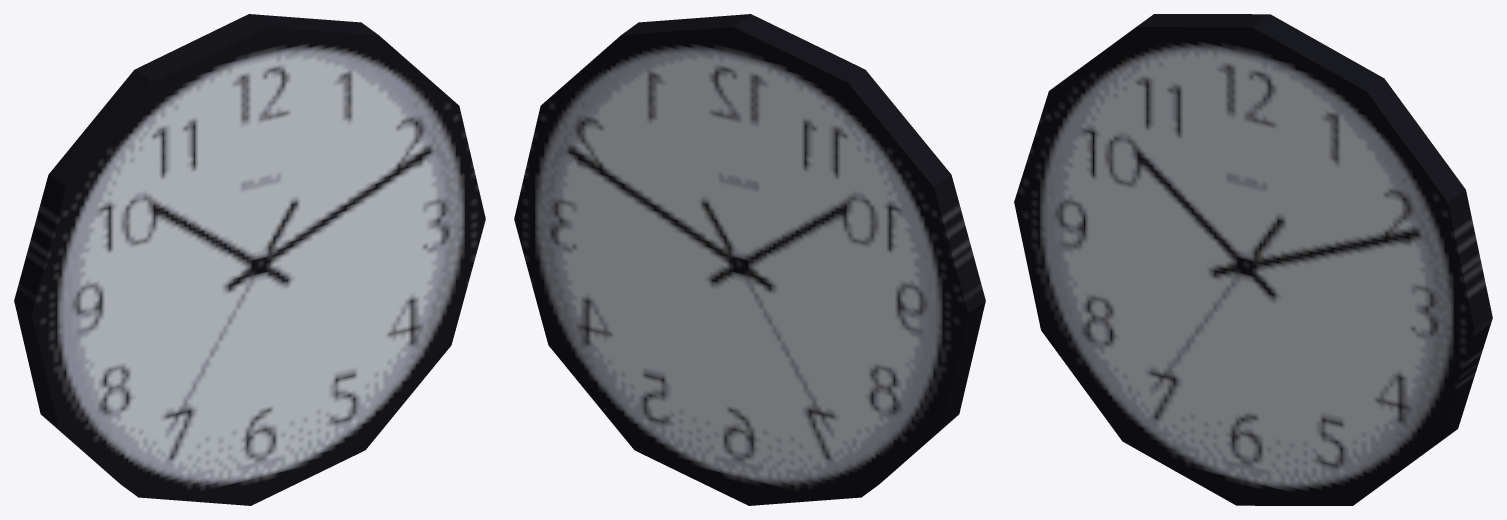
File: relogio.fbx
3 views of the same model, side by side, from view 1: azimuth 30°, elevation 25°; view 2: azimuth 150°, elevation 25°; view 3: azimuth 330°, elevation 25° (orthographic).
Visible parts, largest first — view 1: relogio; view 2: relogio; view 3: relogio.
Part boxes in pixels (<box>): relogio: <box>14,14,485,505</box>; relogio: <box>514,14,985,505</box>; relogio: <box>1014,14,1492,505</box>.
Bounding box in the file's own units: 200 × 200 × 13.43.
